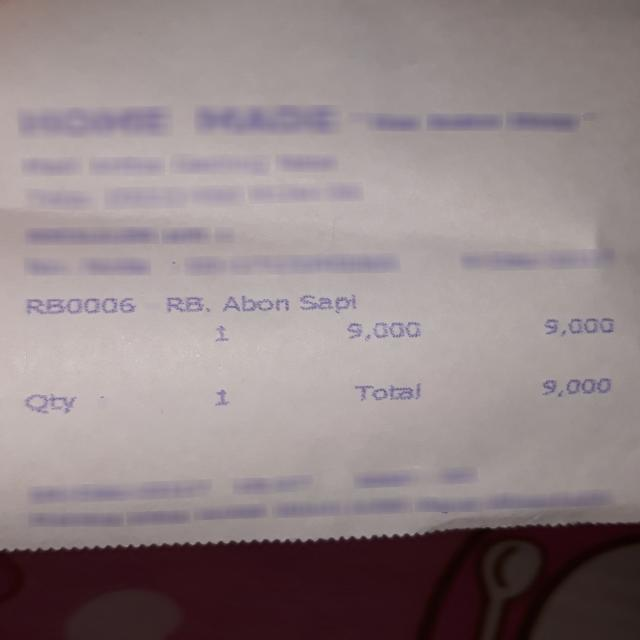kertas: (4, 1, 639, 550)
